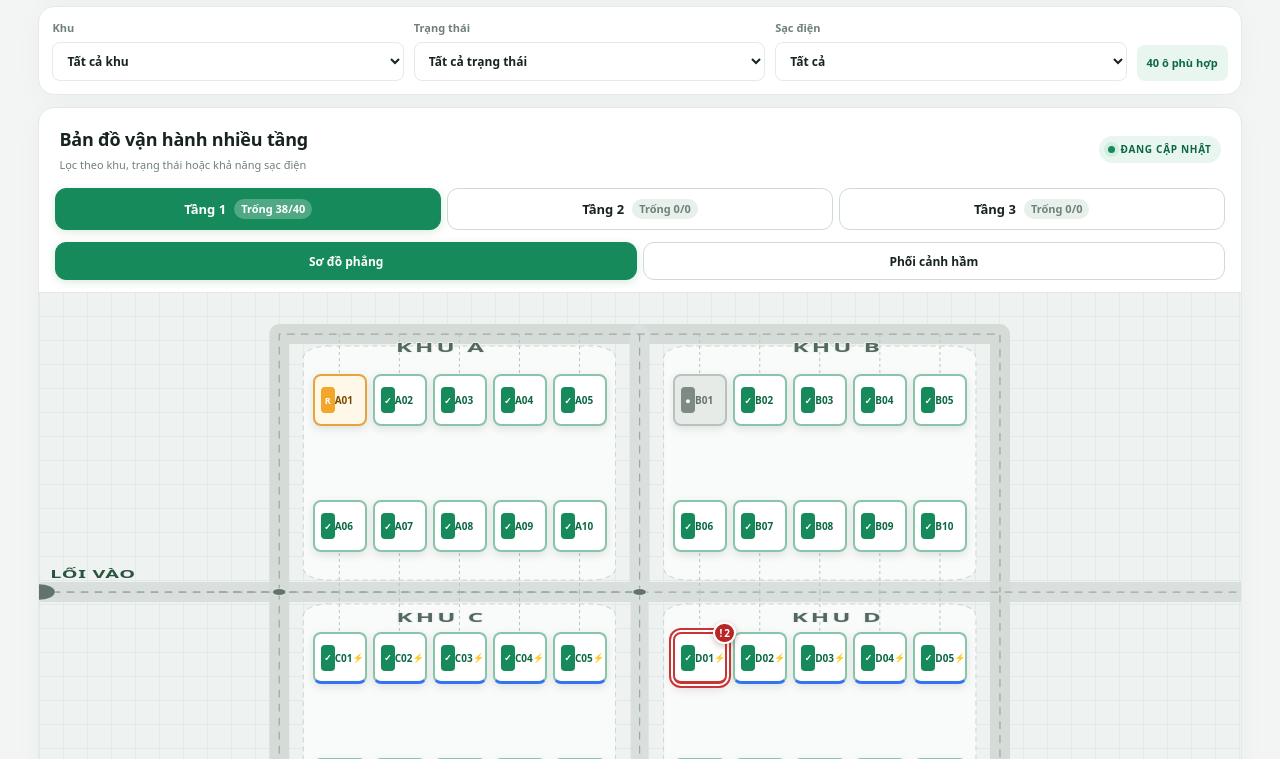
Test: AdminDashboard report warnings › lets admin close the selected slot detail and clears the map highlight
(page scrolled)
Click the button named "F1-A02, Khu A": (400, 400) [373, 374, 427, 426]
(page scrolled)
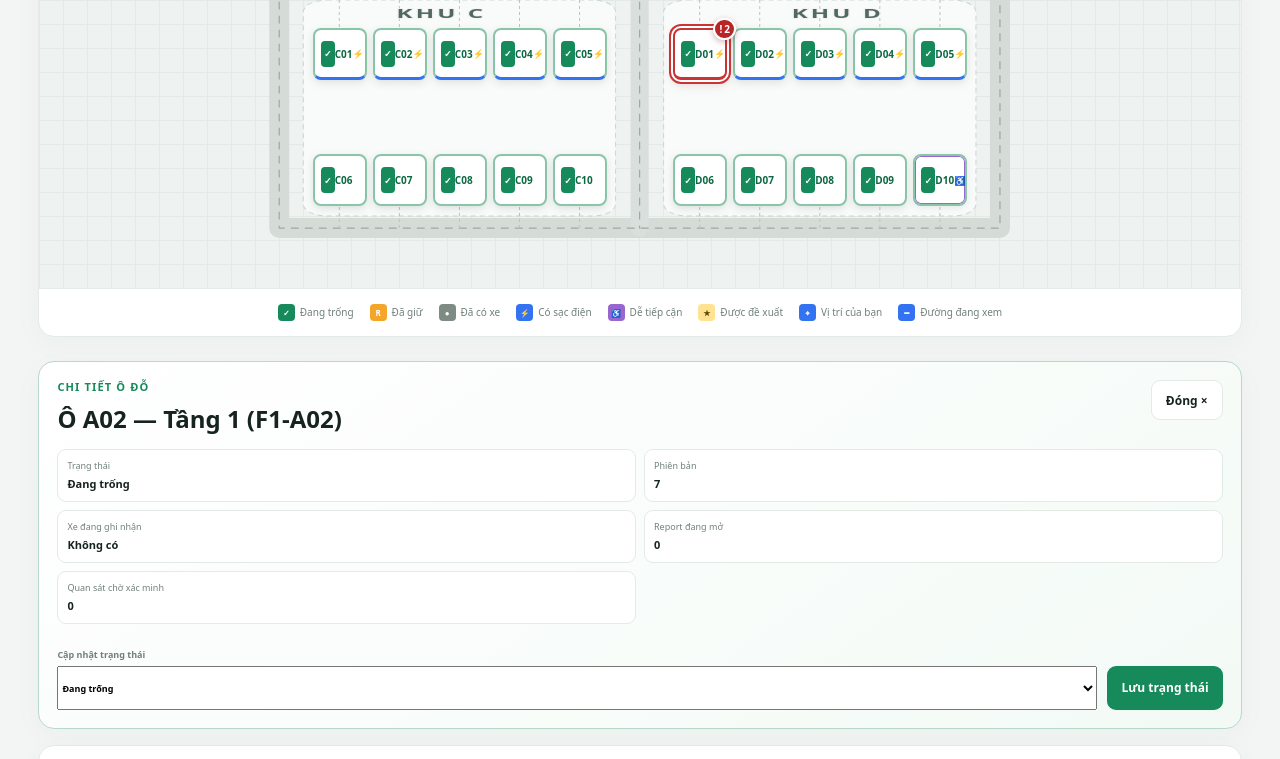
Expected: the heading "Ô A02 — Tầng 1 (F1-A02)" is shown, [57, 401, 342, 437]
Click the button with aria-label "Đóng chi tiết ô đỗ": (1187, 400) [1151, 380, 1223, 420]
(page scrolled)
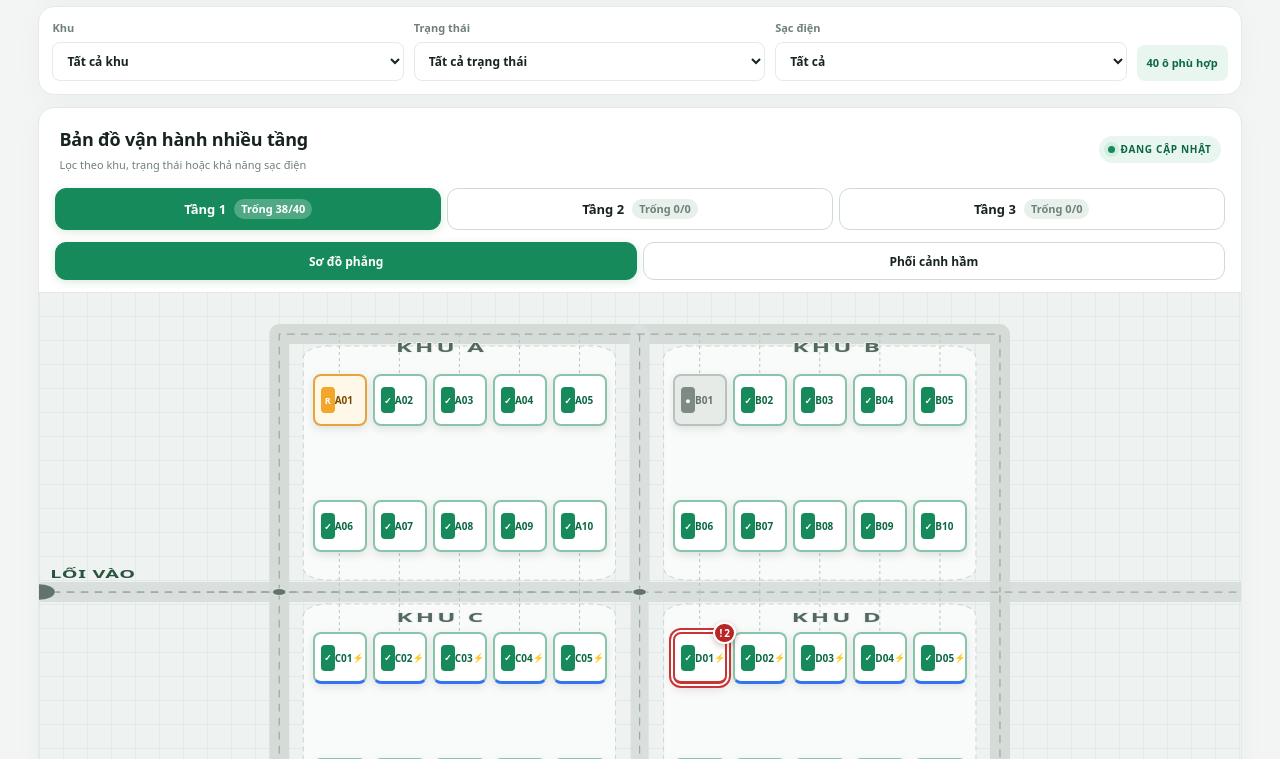
Expected: the text "CHI TIẾT Ô ĐỖ" is gone
